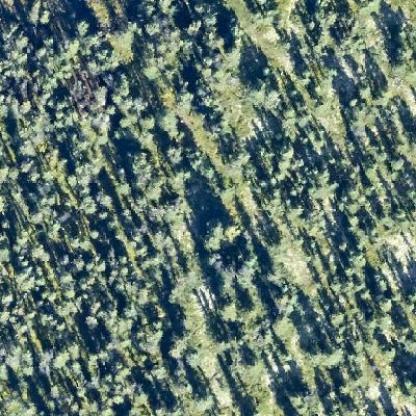tree-top: (197, 217, 226, 252), (231, 252, 260, 287), (162, 331, 192, 360), (214, 298, 243, 324), (252, 141, 274, 174), (152, 103, 176, 131), (324, 342, 348, 370), (161, 140, 184, 168), (34, 348, 55, 375), (247, 74, 268, 98), (302, 344, 324, 364), (94, 185, 114, 206), (333, 238, 349, 254)
